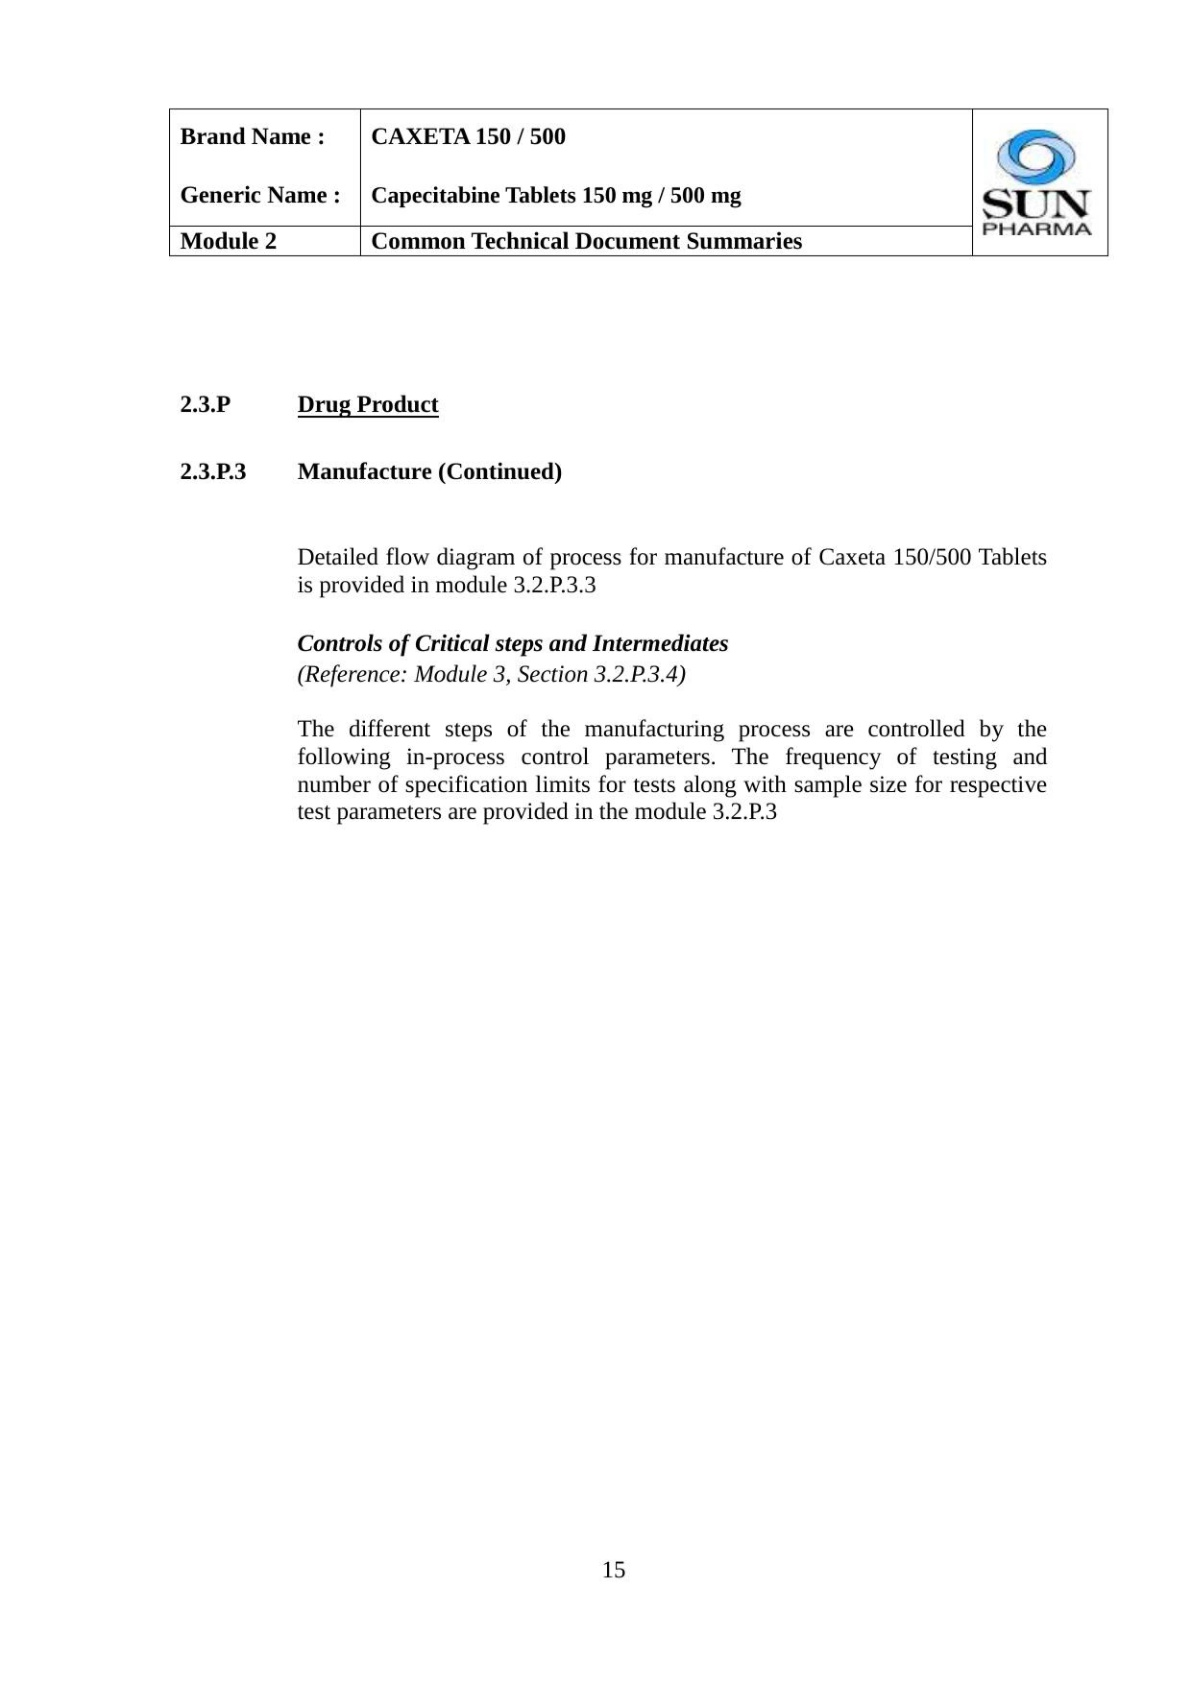merged_cells: (166, 106, 1109, 257)
